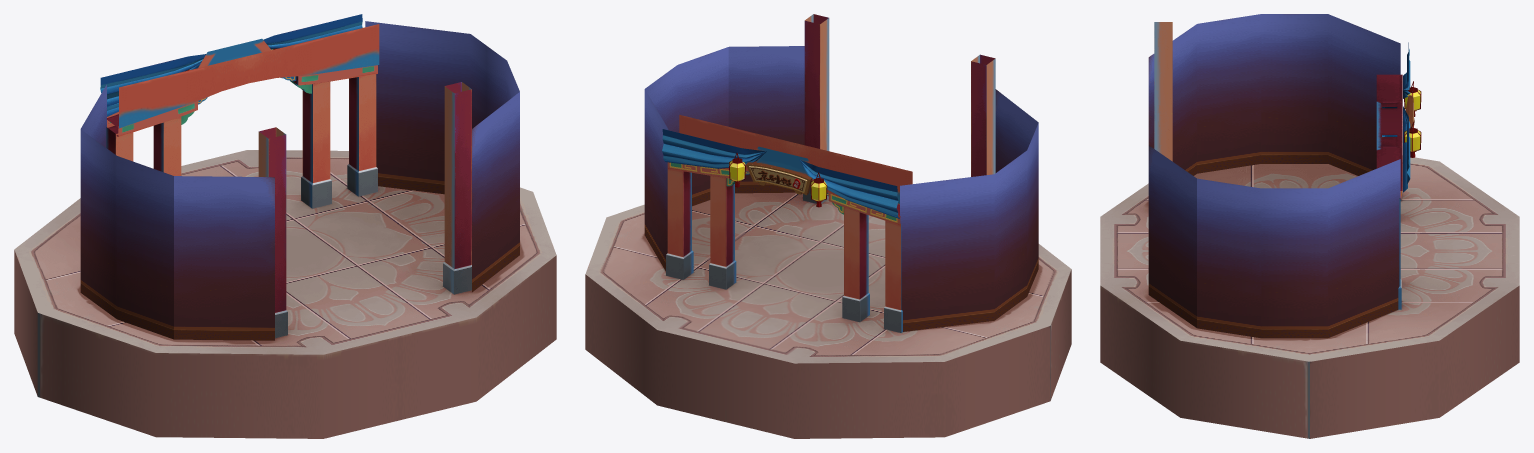
File: wutai_01.FBX
The picture shows the model from 3 angles, left to right: view 1: azimuth 30°, elevation 25°; view 2: azimuth 150°, elevation 25°; view 3: azimuth 270°, elevation 25°; orthographic projection. The views are drawn at different scales.
Parts seen in each view (by area): view 1: wutai_01; view 2: wutai_01; view 3: wutai_01.
Part boxes in pixels (<box>): wutai_01: <box>14,14,556,438</box>; wutai_01: <box>585,14,1071,438</box>; wutai_01: <box>1100,14,1519,438</box>.
Bounding box in the file's own units: 341 × 273 × 187.
